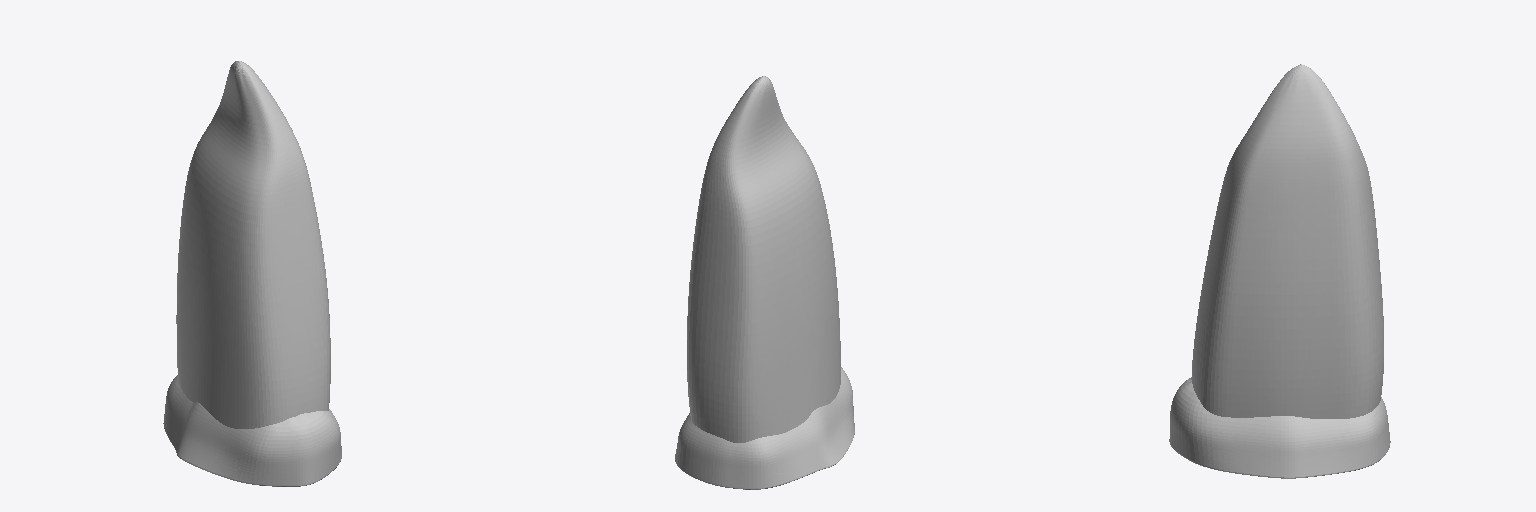
File: Transversal.obj
3 views of the same model, side by side, from view 1: azimuth 30°, elevation 25°; view 2: azimuth 150°, elevation 25°; view 3: azimuth 270°, elevation 25° (orthographic).
Visible parts, largest first — view 1: Cylinder_Cylinder.002, Cylinder.001; view 2: Cylinder_Cylinder.002, Cylinder.001; view 3: Cylinder_Cylinder.002, Cylinder.001.
Boxes of the visible parts, x1=… form: Cylinder_Cylinder.002: x1=176, y1=61, x2=330, y2=428; Cylinder.001: x1=163, y1=375, x2=341, y2=486; Cylinder_Cylinder.002: x1=687, y1=76, x2=840, y2=442; Cylinder.001: x1=675, y1=367, x2=854, y2=489; Cylinder_Cylinder.002: x1=1191, y1=64, x2=1383, y2=418; Cylinder.001: x1=1169, y1=377, x2=1390, y2=478.
Size of the model in its own units: 1.56 by 3.9 by 2.07.